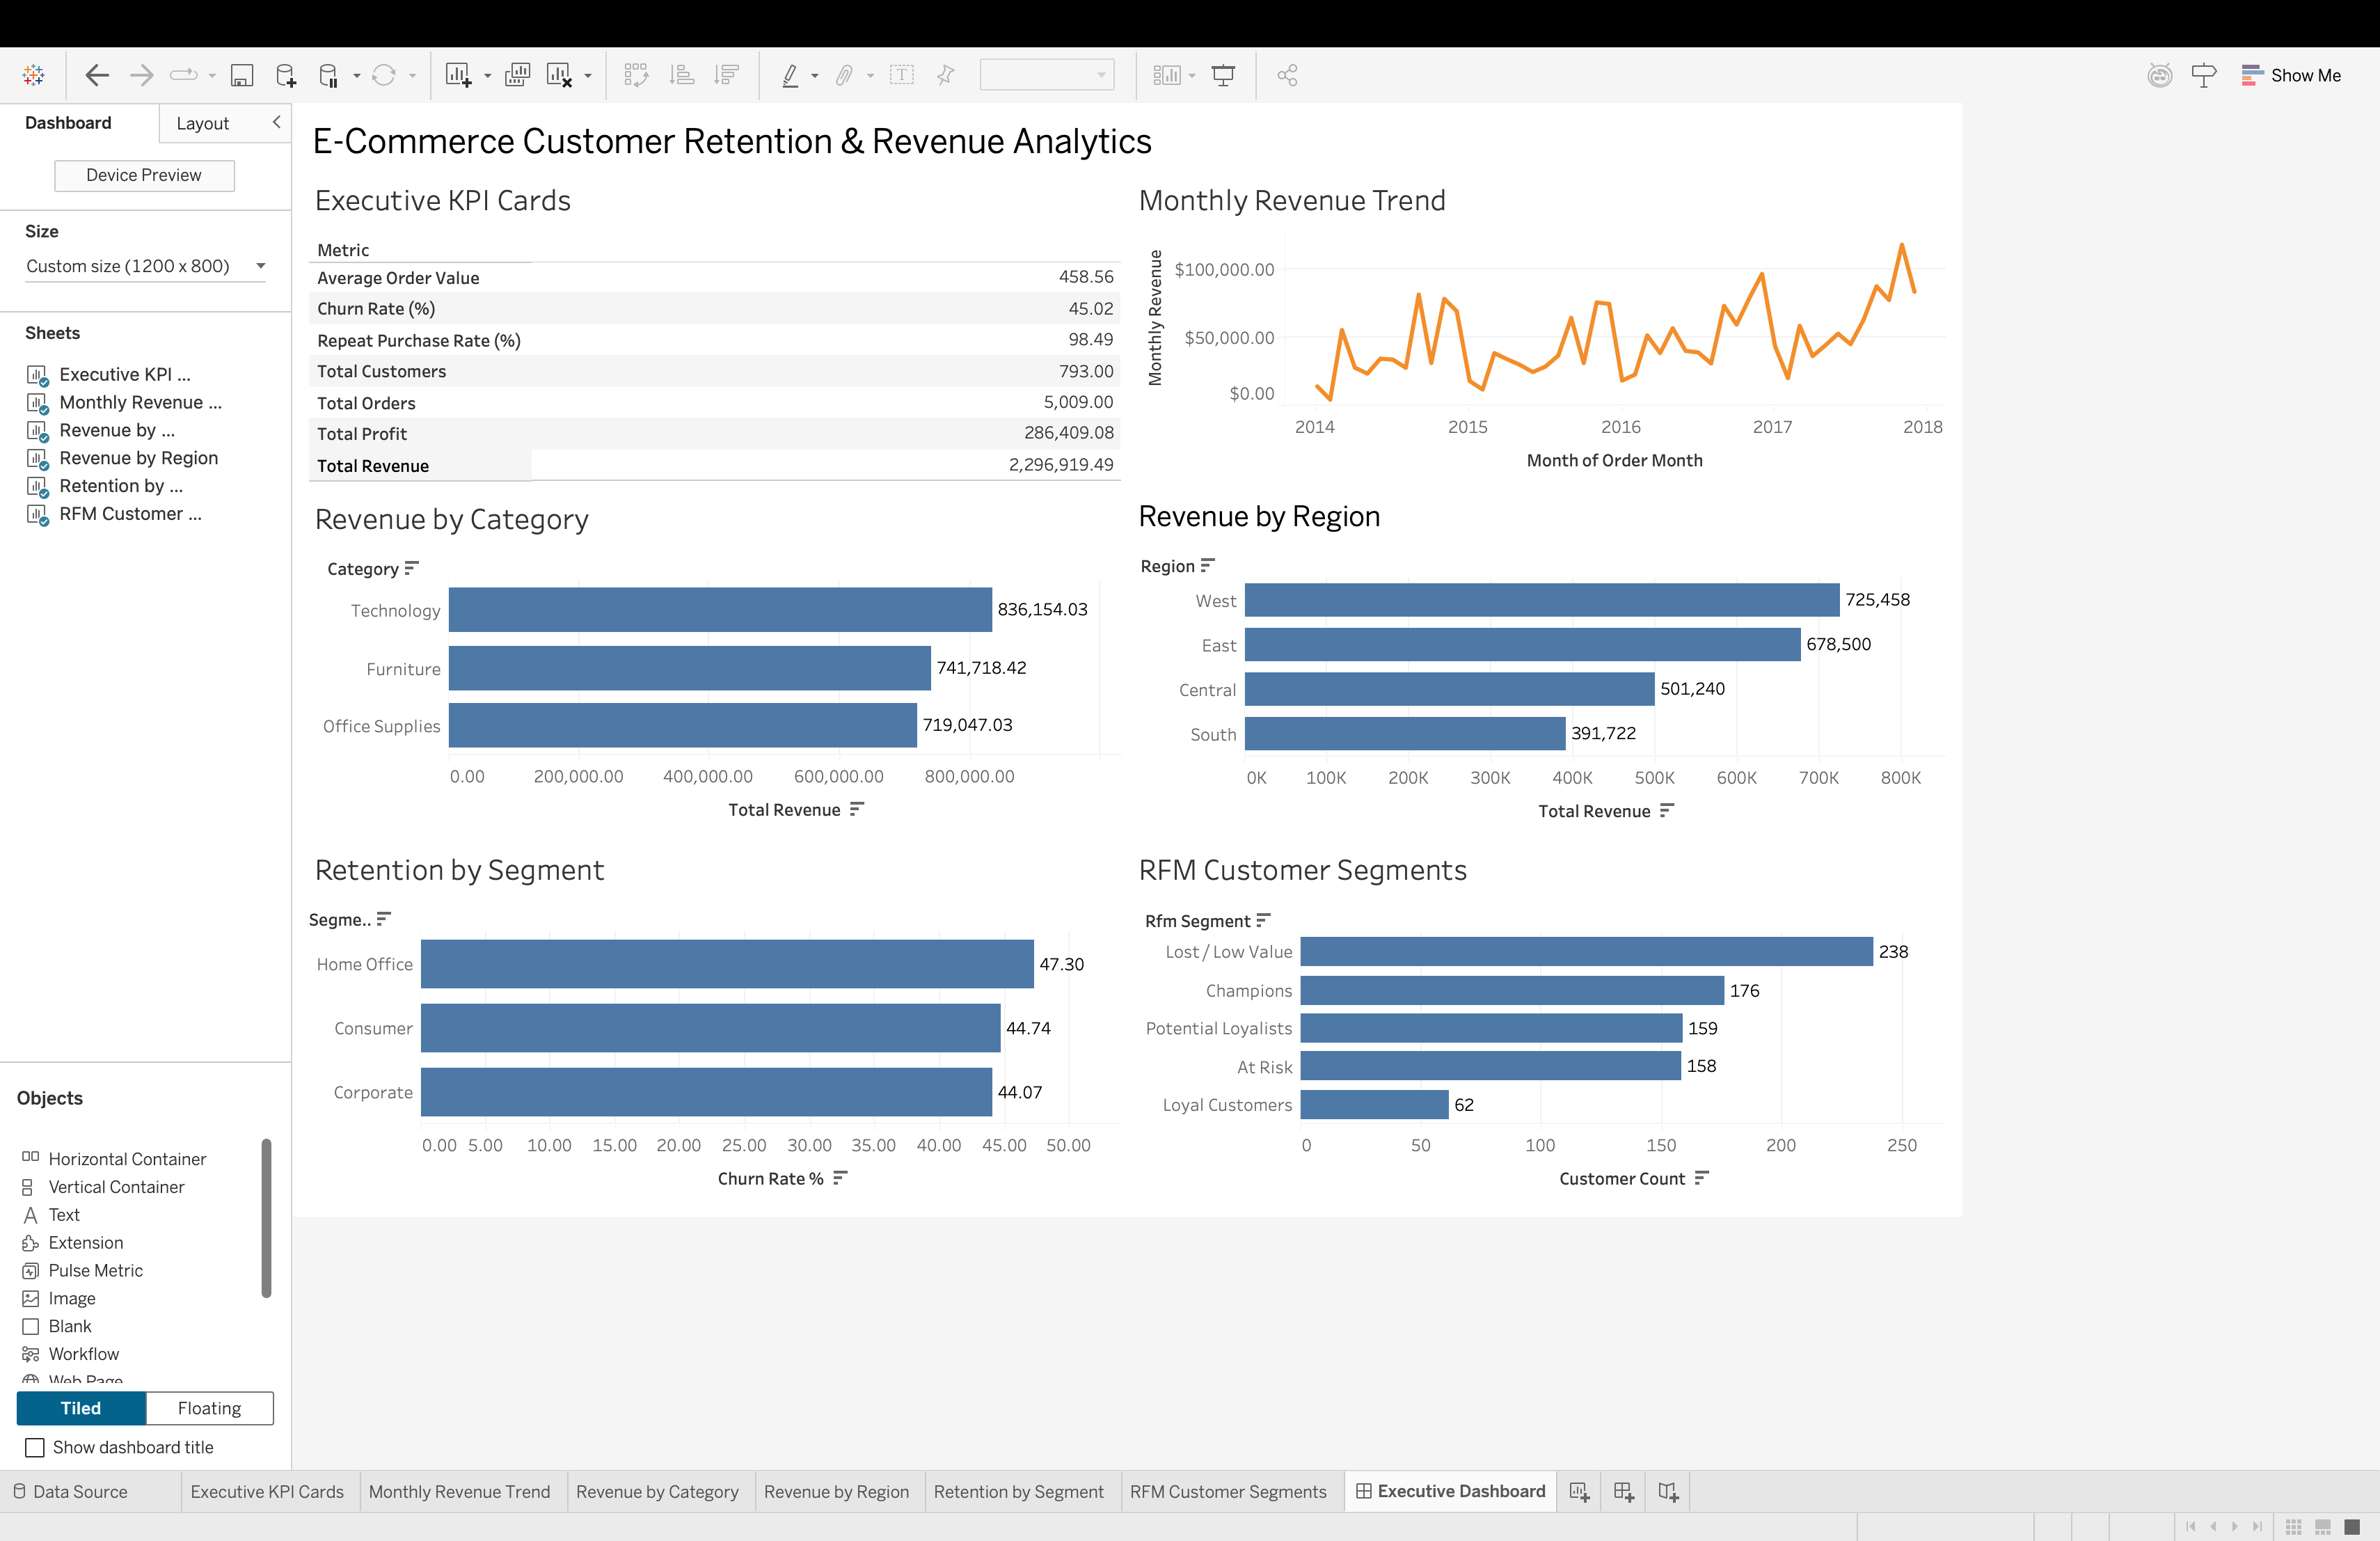

This screenshot's page, from the dashboard's own definition file:
{"tool":"tableau","page":{"name":"Executive Dashboard","canvas":[1200,800],"ordinal":0},"visuals":[{"type":"title","box":[8,8,1184,39]},{"type":"worksheet","title":"Executive KPI Cards","mark":"Automatic","rows":["metric"],"box":[8,47,592,229]},{"type":"worksheet","title":"Monthly Revenue Trend","mark":"Automatic","rows":["monthly_revenue"],"cols":["order_month"],"box":[600,47,592,229]},{"type":"worksheet","title":"Revenue by Category","mark":"Automatic","rows":["category"],"cols":["total_revenue"],"box":[8,276,592,251.8]},{"type":"worksheet","title":"Revenue by Region","mark":"Automatic","rows":["region"],"cols":["total_revenue"],"box":[600,276,592,251.8]},{"type":"worksheet","title":"Retention by Segment","mark":"Automatic","rows":["segment"],"cols":["churn_rate_pct"],"box":[8,527.8,592,264.2]},{"type":"worksheet","title":"RFM Customer Segments","mark":"Automatic","rows":["rfm_segment"],"cols":["customer_id"],"box":[600,527.8,592,264.2]}]}

Visuals, with their boxes on the page's 1200x800 design canvas (x1, y1, x2, y2). These are canvas units, not pixel positions in the 2380x1541 screenshot, which may show the page scaled, cropped or inside an application window:
title: l=8, t=8, r=1192, b=47
"Executive KPI Cards" worksheet: l=8, t=47, r=600, b=276
"Monthly Revenue Trend" worksheet: l=600, t=47, r=1192, b=276
"Revenue by Category" worksheet: l=8, t=276, r=600, b=528
"Revenue by Region" worksheet: l=600, t=276, r=1192, b=528
"Retention by Segment" worksheet: l=8, t=528, r=600, b=792
"RFM Customer Segments" worksheet: l=600, t=528, r=1192, b=792
